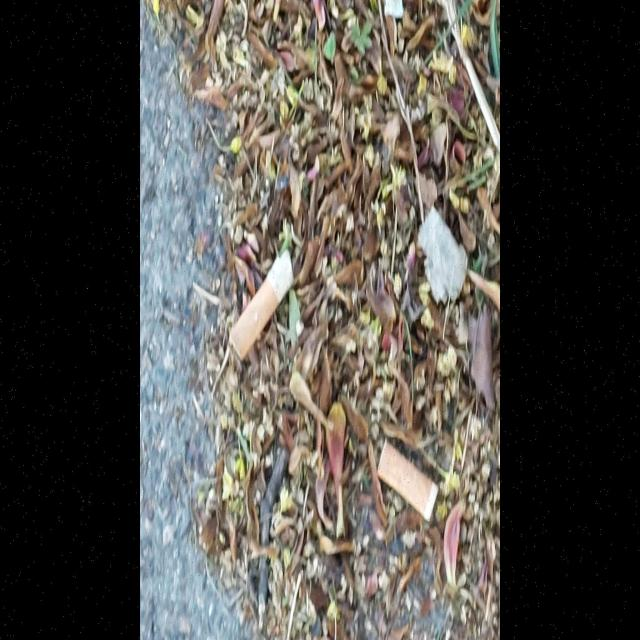other waste: (229, 246, 295, 362), (376, 436, 440, 522)
